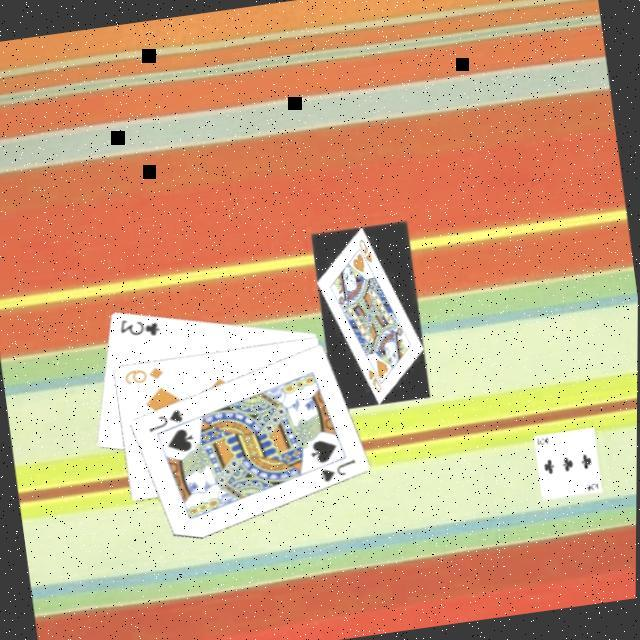3C: (116, 313, 165, 345)
6D: (122, 364, 168, 390)
JS: (144, 407, 190, 438), (318, 457, 362, 488)
